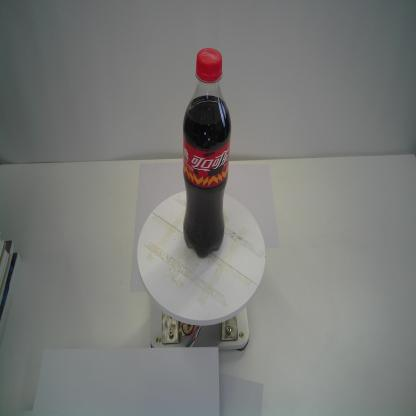Drink: (178, 48, 234, 260)
